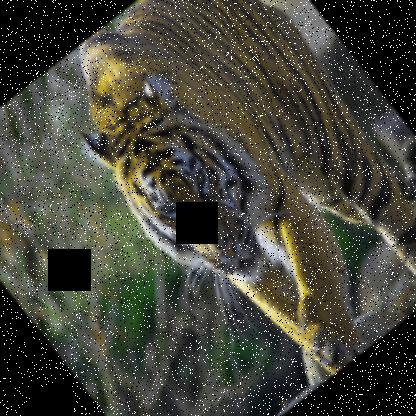Panthera tigris: (29, 0, 415, 411)
